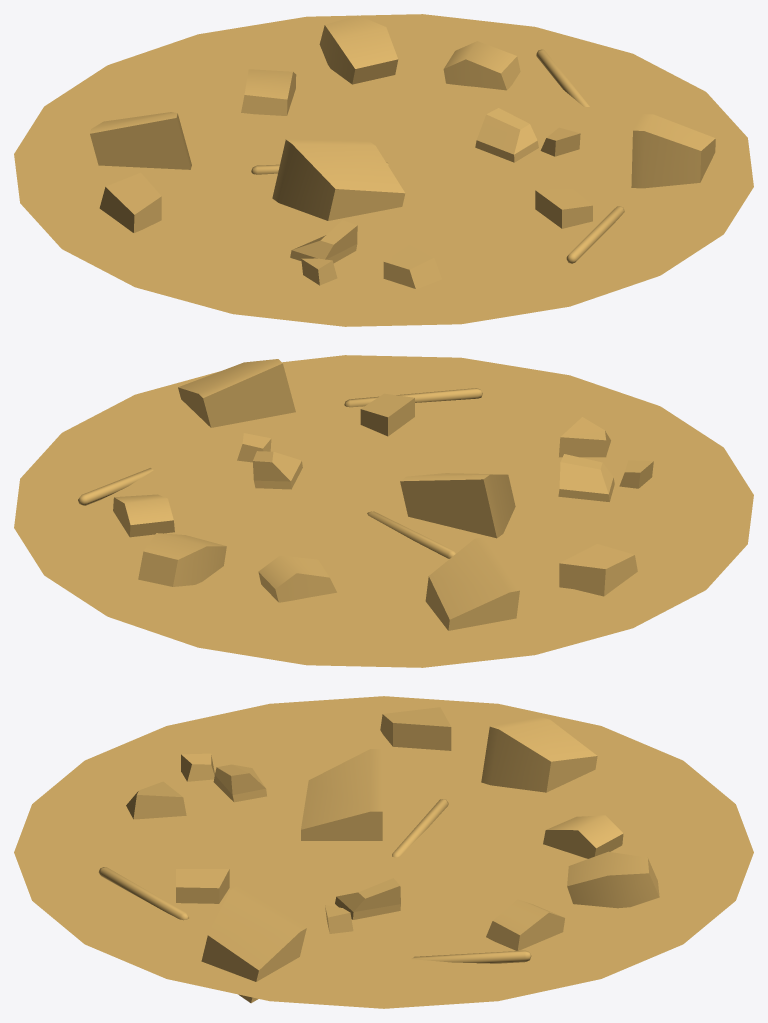
The model's file is pot_food.fbx.
3 renders of one model, top to bottom at view 1: azimuth 30°, elevation 25°; view 2: azimuth 150°, elevation 25°; view 3: azimuth 270°, elevation 25°, orthographic.
Visible parts, largest first — view 1: Object016; view 2: Object016; view 3: Object016.
Part boxes in pixels (x1,y1,x2,y2): Object016: (14,14,753,326); Object016: (14,355,753,667); Object016: (14,696,753,1008).
Bounding box in the file's own units: 80.51 × 9.83 × 80.51.
